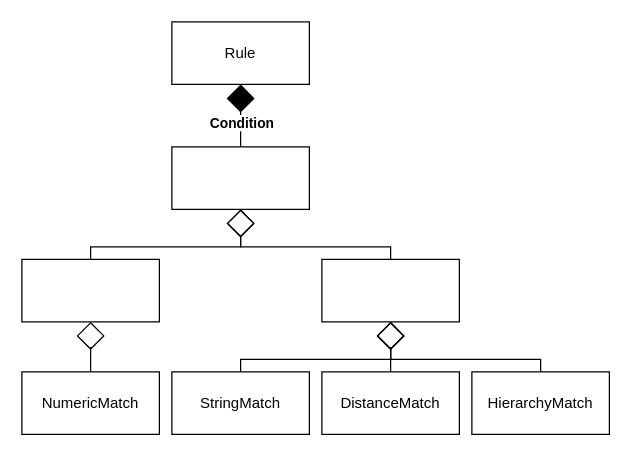
Some shapes in this 631 by 456 pixel diagram are drawn without their labels. Each missing label, with the centre of its shape:
"ANDMatch" goes at (x=240, y=177).
"NOTMatch" goes at (x=90, y=290).
"ORMatch" goes at (x=390, y=290).
